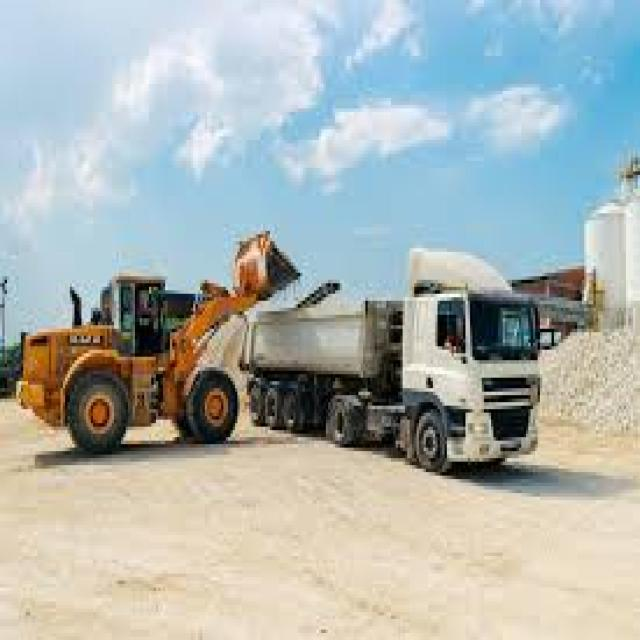dump_truck: (242, 240, 543, 485)
